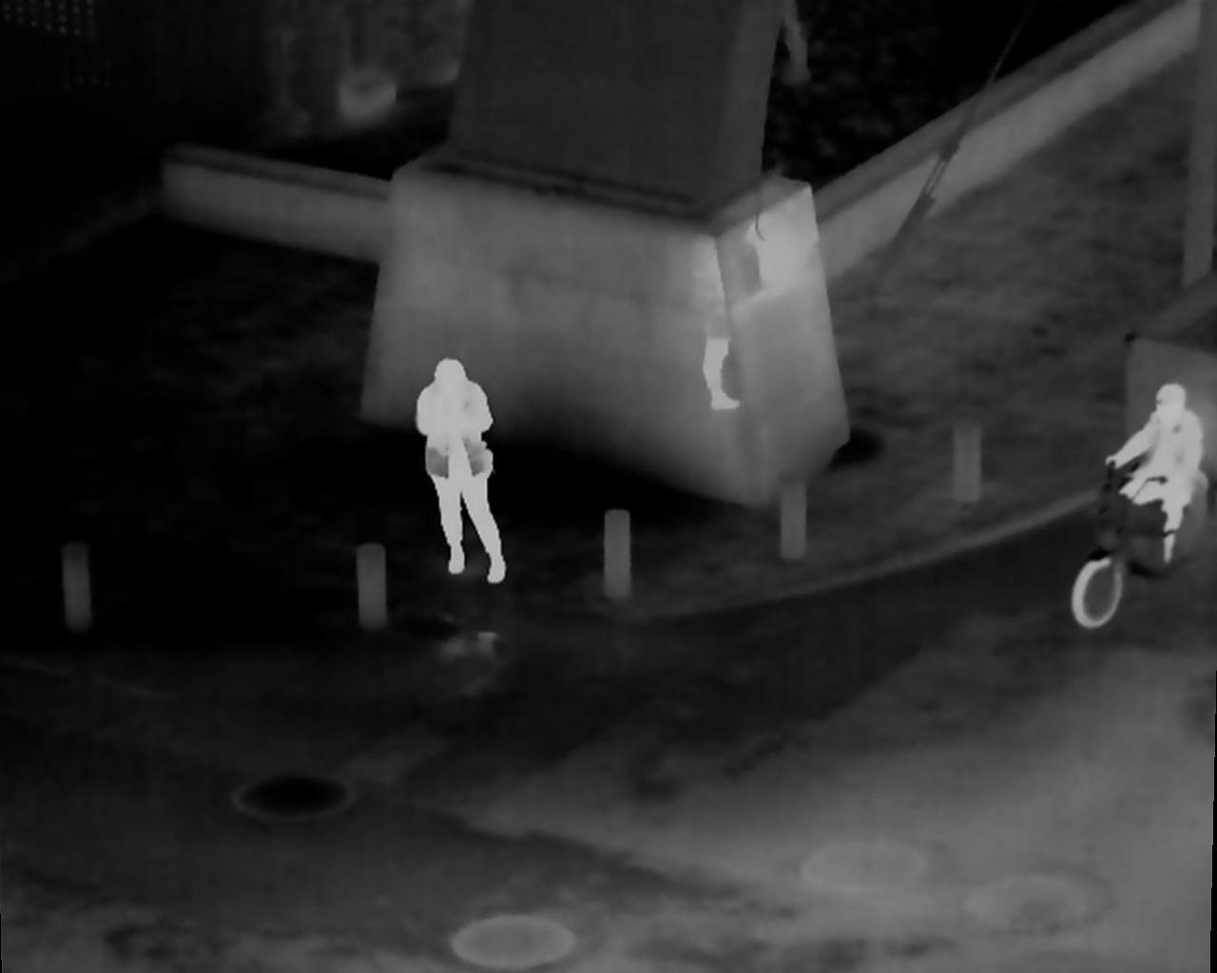person: (1093, 383, 1204, 616), (419, 356, 512, 588)
